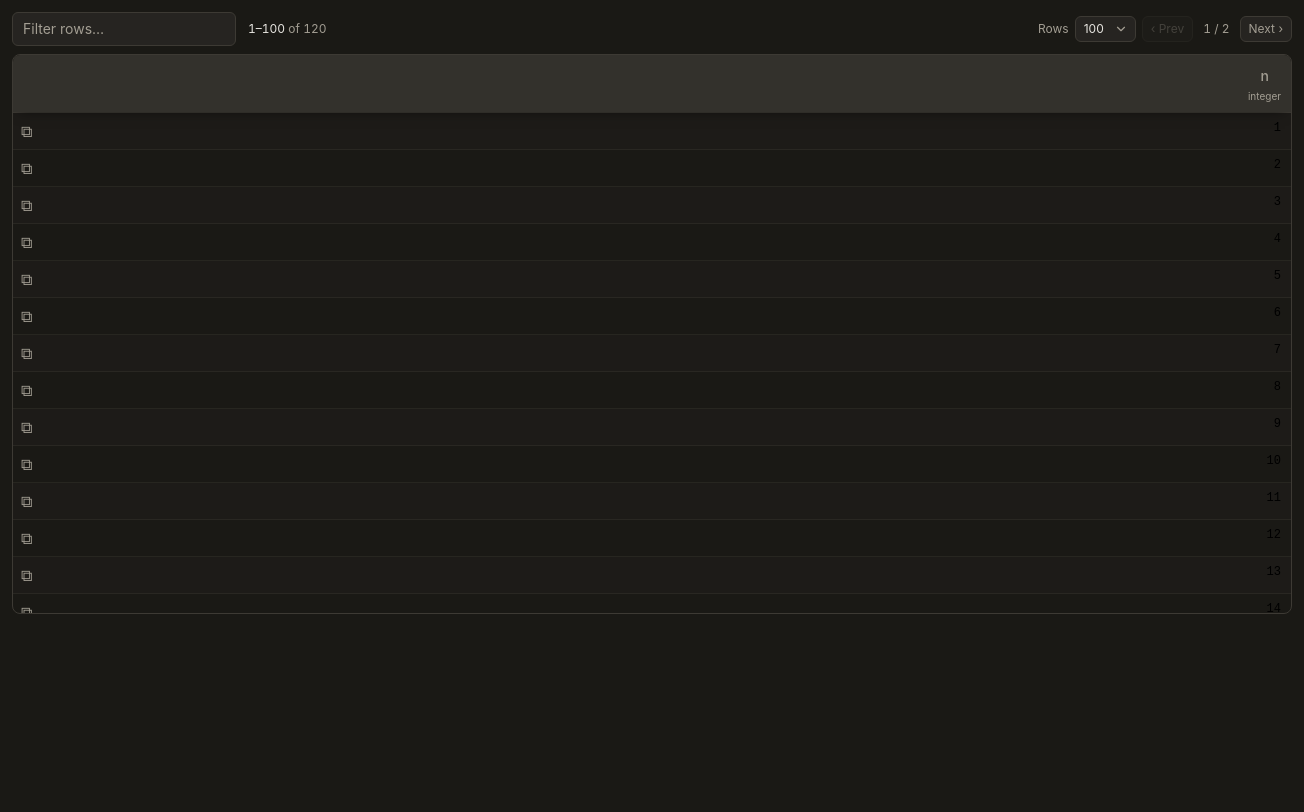
DataGrid — paging › changes the page size, and "all" turns paging off
Select "50" in the dropdown: x=1105, y=29 [1075,16,1136,42]
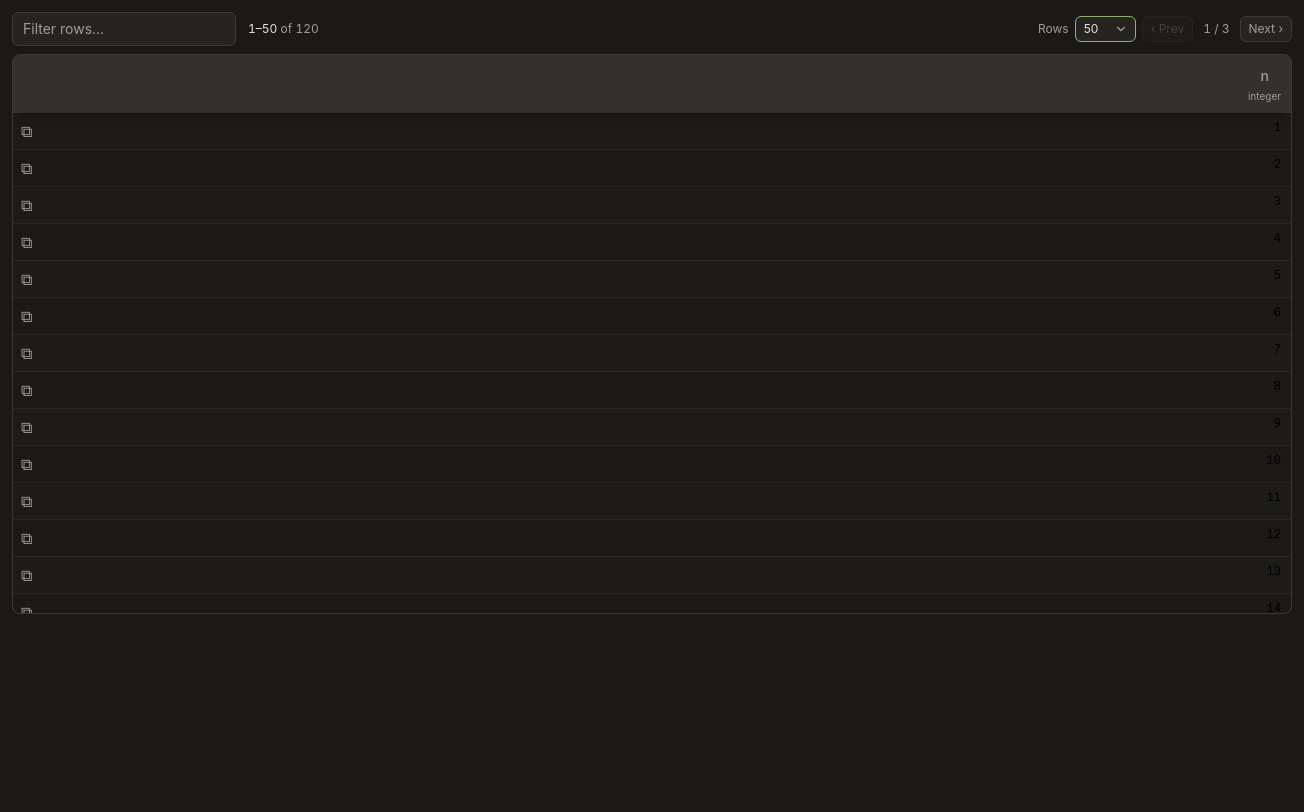
Expected: the text "1 / 3" is shown, [1203,21,1230,36]
Select "all" in the dropdown: x=1105, y=29 [1075,16,1136,42]
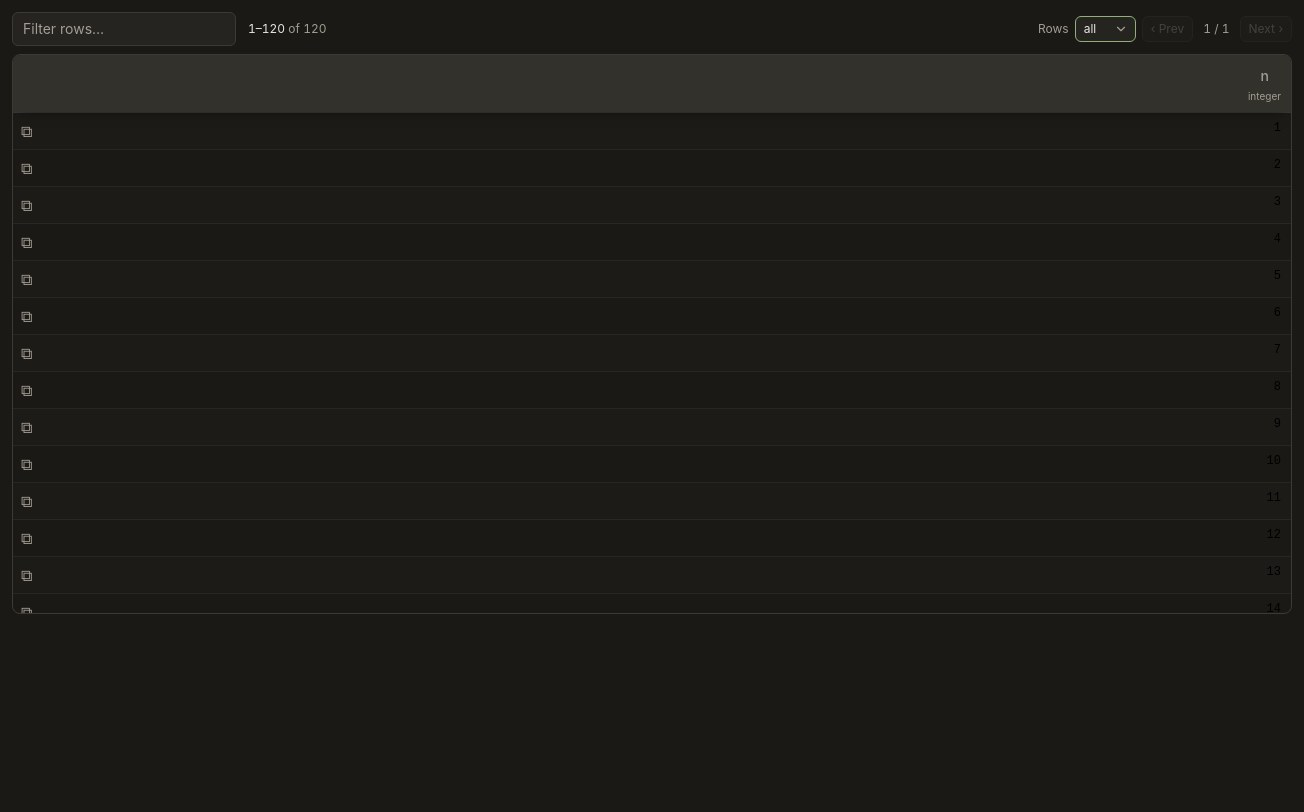
Expected: the text "1 / 1" is shown, [1203,21,1230,36]
